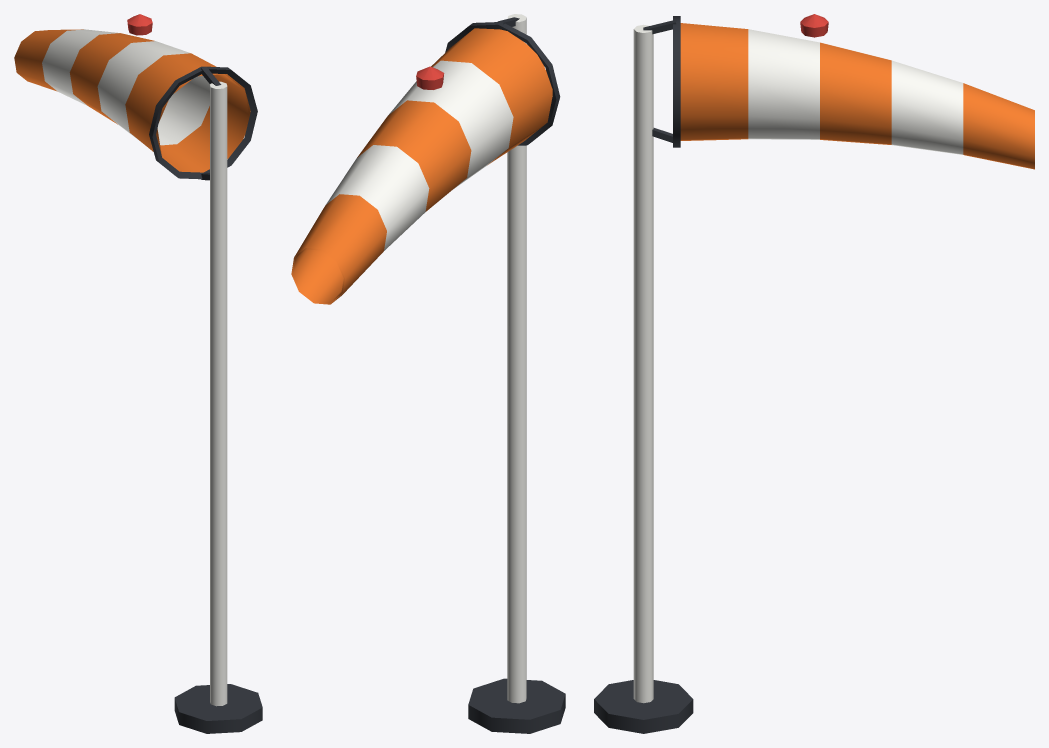
Rendered from Manga.fbx.
3 views of the same model, side by side, from view 1: azimuth 30°, elevation 25°; view 2: azimuth 150°, elevation 25°; view 3: azimuth 270°, elevation 25° (orthographic). The views are drawn at different scales.
Parts seen in each view (by area): view 1: Manga; view 2: Manga; view 3: Manga.
Boxes of the visible parts, x1,y1,x2,y2 form: Manga: [14, 14, 262, 733]; Manga: [291, 14, 565, 733]; Manga: [594, 14, 1034, 733].
Bounding box in the file's own units: 1.2 × 7 × 4.
Materials: 1 (1 with a texture image).
